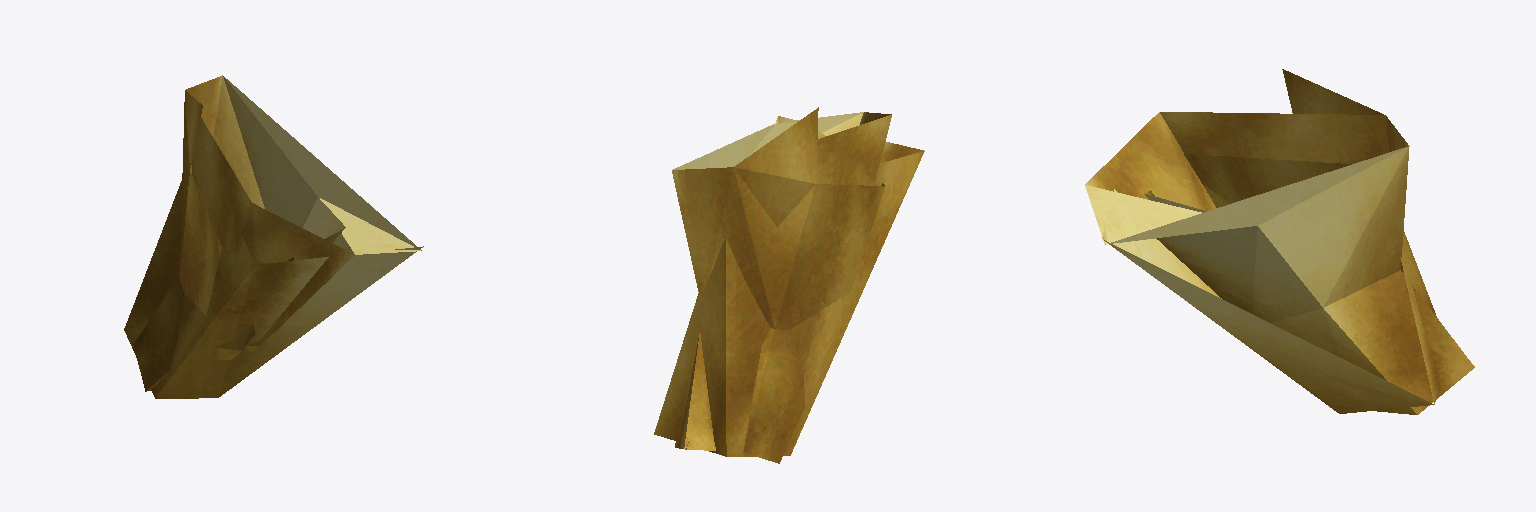
3 renders of one model, left to right at view 1: azimuth 30°, elevation 25°; view 2: azimuth 150°, elevation 25°; view 3: azimuth 270°, elevation 25°, orthographic.
Visible parts, largest first — view 1: piernaTraseraDerLeona; view 2: piernaTraseraDerLeona; view 3: piernaTraseraDerLeona.
Part boxes in pixels (x1,y1,x2,y2): piernaTraseraDerLeona: (124,75,423,398); piernaTraseraDerLeona: (654,107,924,463); piernaTraseraDerLeona: (1085,69,1474,414).
Bounding box in the file's own units: 0.3501 × 0.6871 × 0.7496.
1 materials, 1 textured.